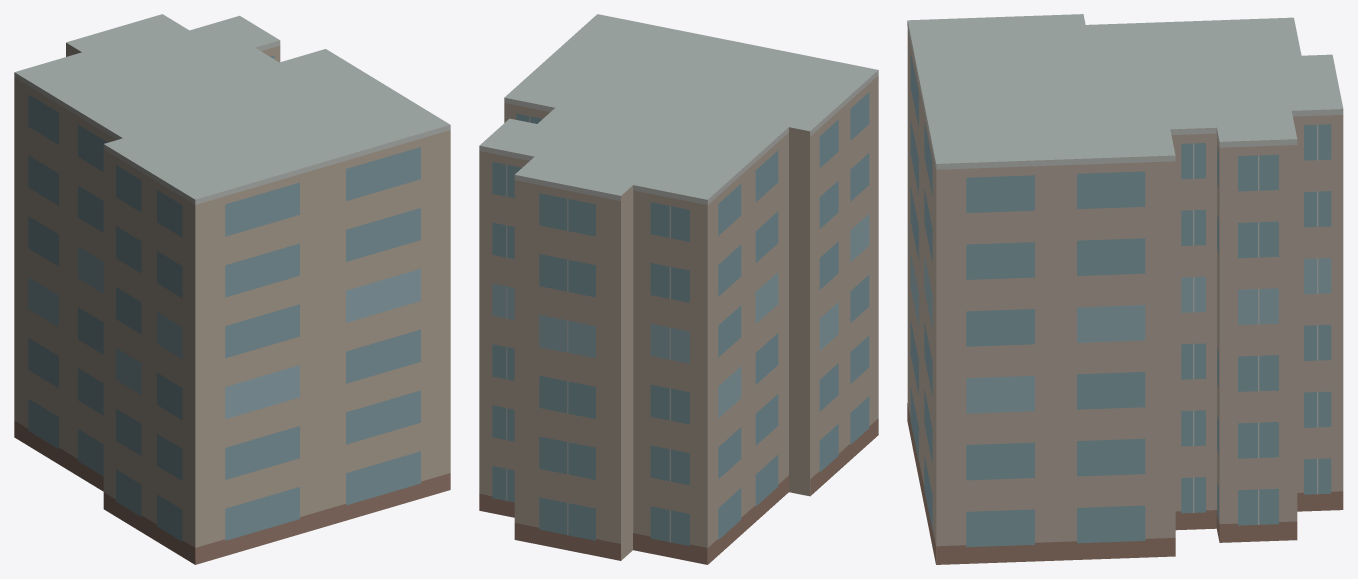
File: survey-upis-32948243.glb
3 views of the same model, side by side, from view 1: azimuth 30°, elevation 25°; view 2: azimuth 150°, elevation 25°; view 3: azimuth 270°, elevation 25° (orthographic). The views are drawn at different scales.
Visible parts, largest first — view 1: survey-upis-32948243.tmp; view 2: survey-upis-32948243.tmp; view 3: survey-upis-32948243.tmp.
Boxes of the visible parts, box(x1,y1,x2,y2) form: survey-upis-32948243.tmp: box(14, 14, 450, 564); survey-upis-32948243.tmp: box(479, 14, 878, 564); survey-upis-32948243.tmp: box(907, 14, 1343, 564).
Bounding box in the file's own units: 13.65 × 17 × 16.76.
